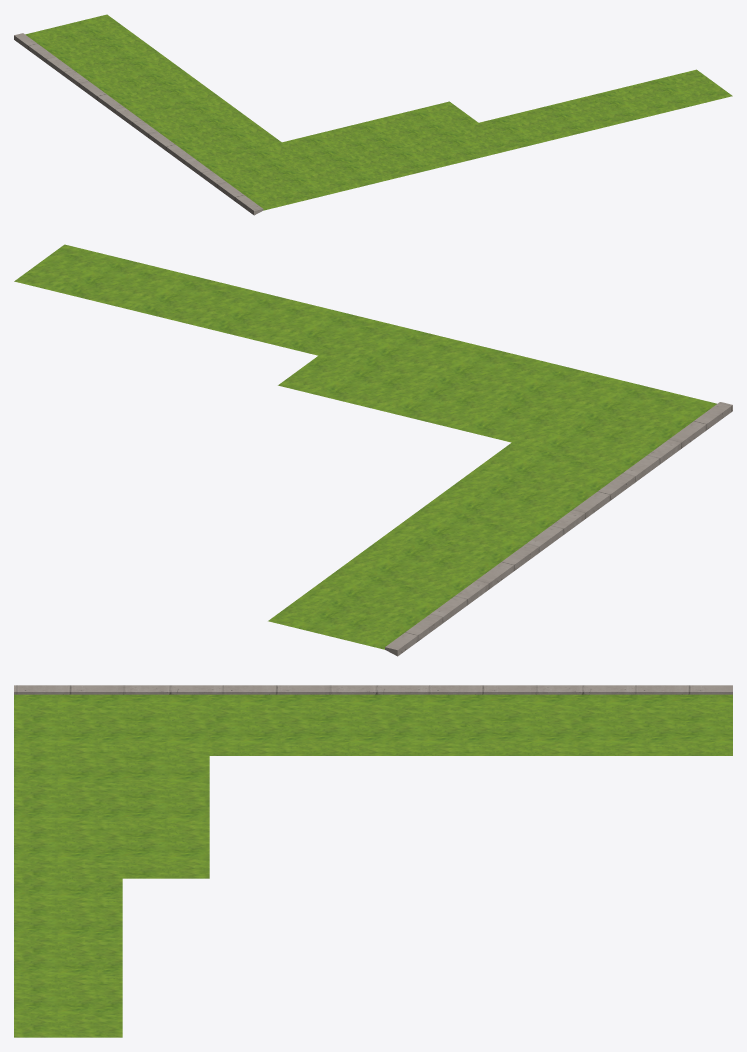
The model's file is GrassTile_M.fbx.
3 renders of one model, top to bottom at view 1: azimuth 30°, elevation 25°; view 2: azimuth 150°, elevation 25°; view 3: azimuth 270°, elevation 25°, orthographic. The views are drawn at different scales.
Visible parts, largest first — view 1: GrassTile_M; view 2: GrassTile_M; view 3: GrassTile_M.
Boxes of the visible parts, left/top/right/bottom form: GrassTile_M: left=14, top=14, right=732, bottom=215; GrassTile_M: left=14, top=244, right=732, bottom=656; GrassTile_M: left=14, top=685, right=732, bottom=1037.
Bounding box in the file's own units: 4904 × 43.93 × 4260.
2 materials, 2 textured.
